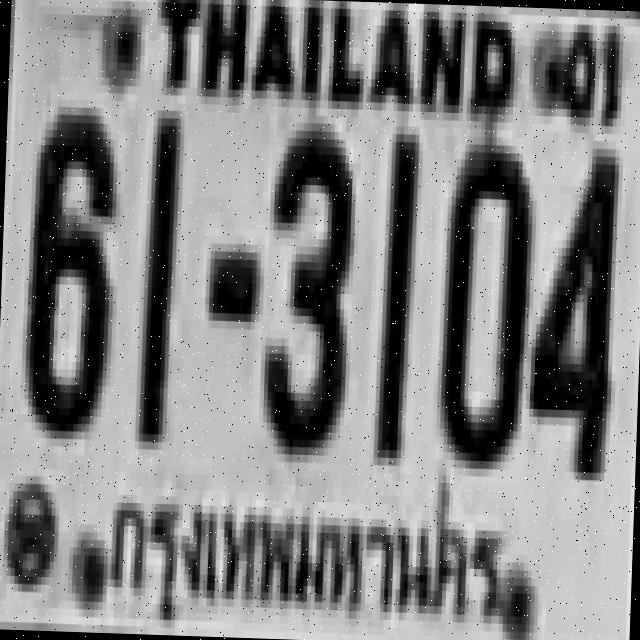0: (435, 135, 531, 462)
1: (132, 113, 178, 438), (374, 129, 416, 454)
3: (258, 121, 350, 448)
4: (523, 142, 615, 469)
6: (20, 101, 116, 428)
Bangkok: (93, 472, 514, 640)
